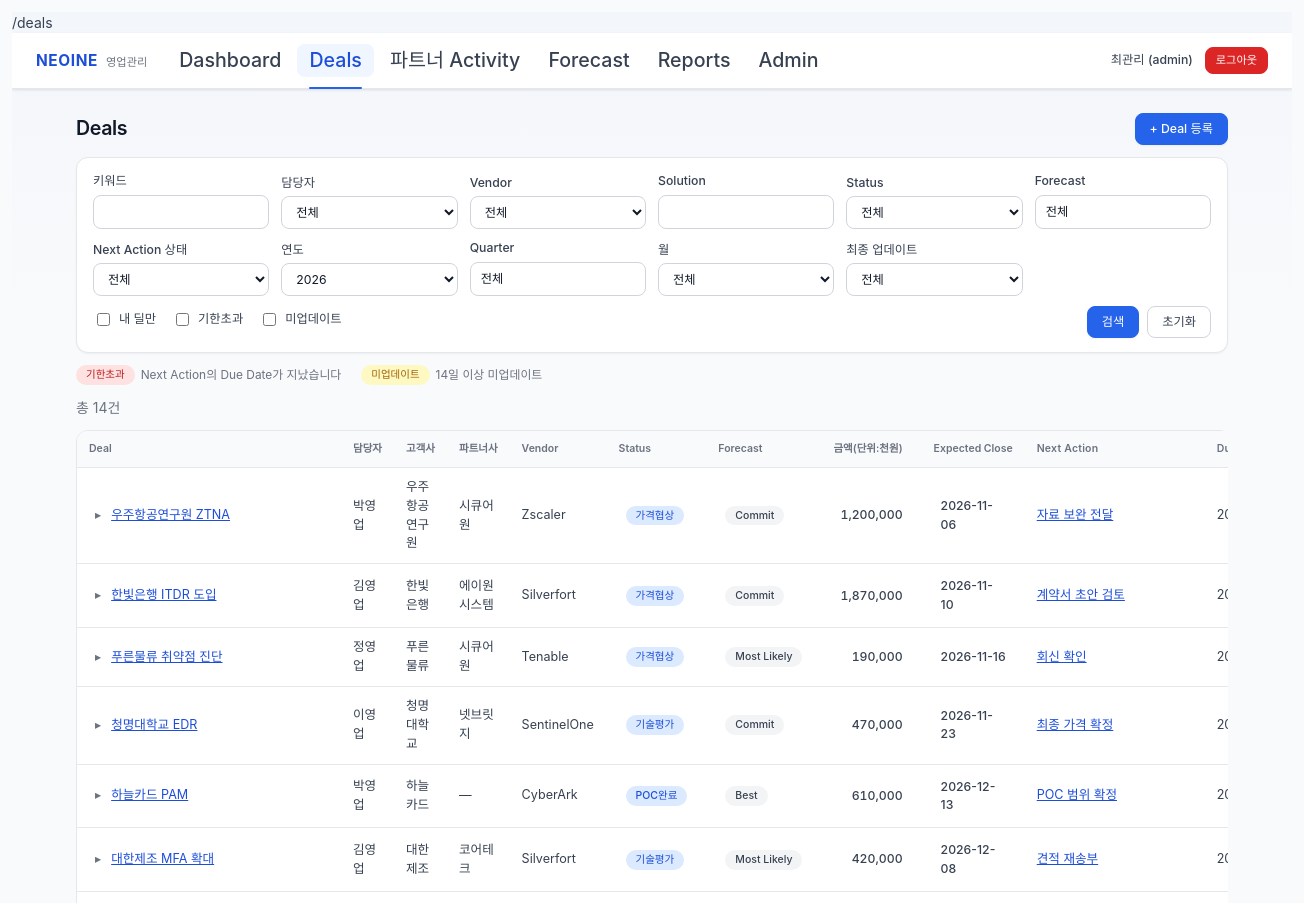
Test case: 메뉴 (T-SHELL-04~05) › sends the menus to their routes
Check: the navigation bar named "주 메뉴" is shown, box [167, 33, 830, 88]
Click the link "Forecast": (589,60) [548, 48, 630, 72]
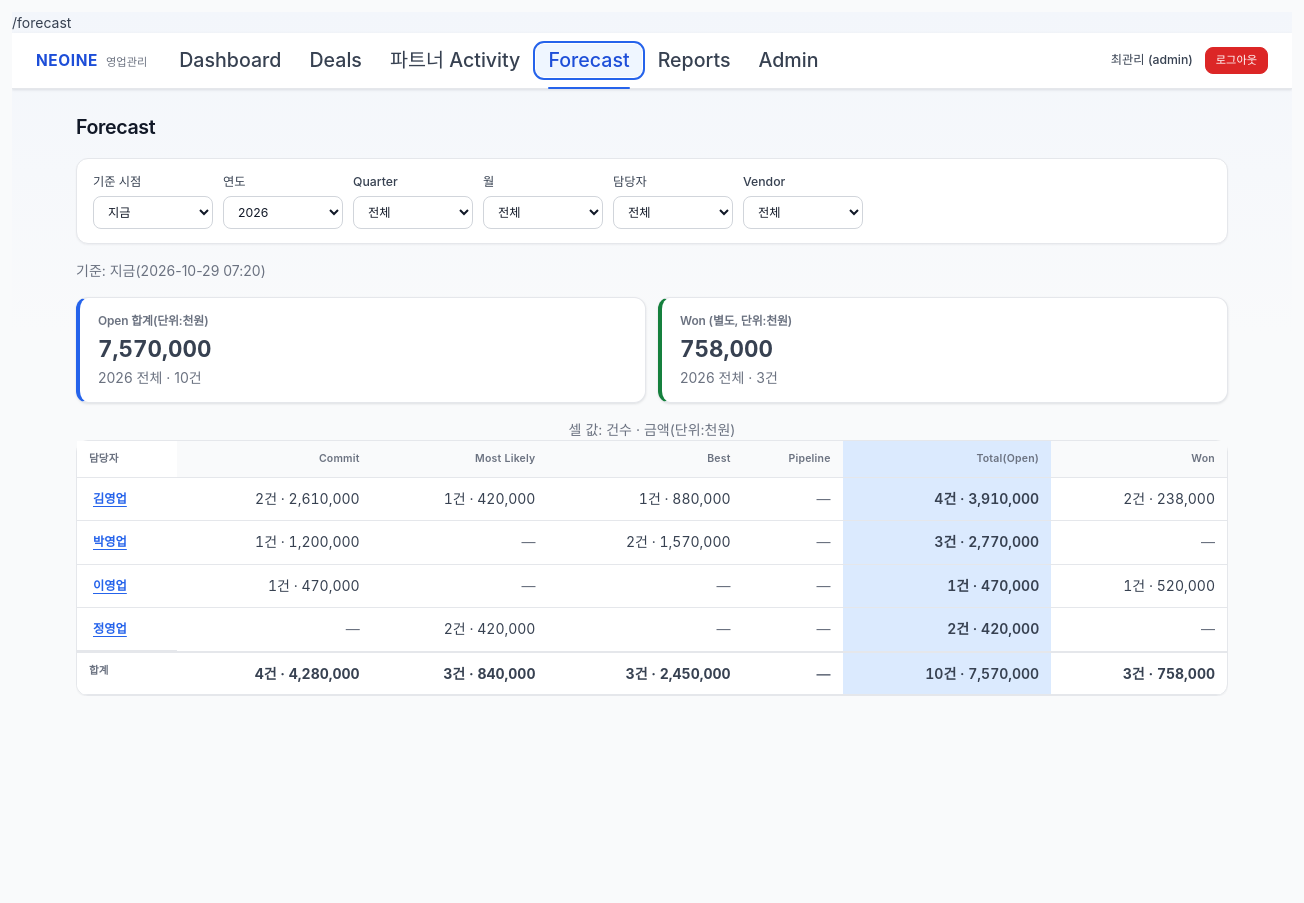
Check: the text with test id "location" reads "/forecast", box [12, 14, 71, 31]
Click the link "Admin": (788,60) [758, 48, 818, 72]
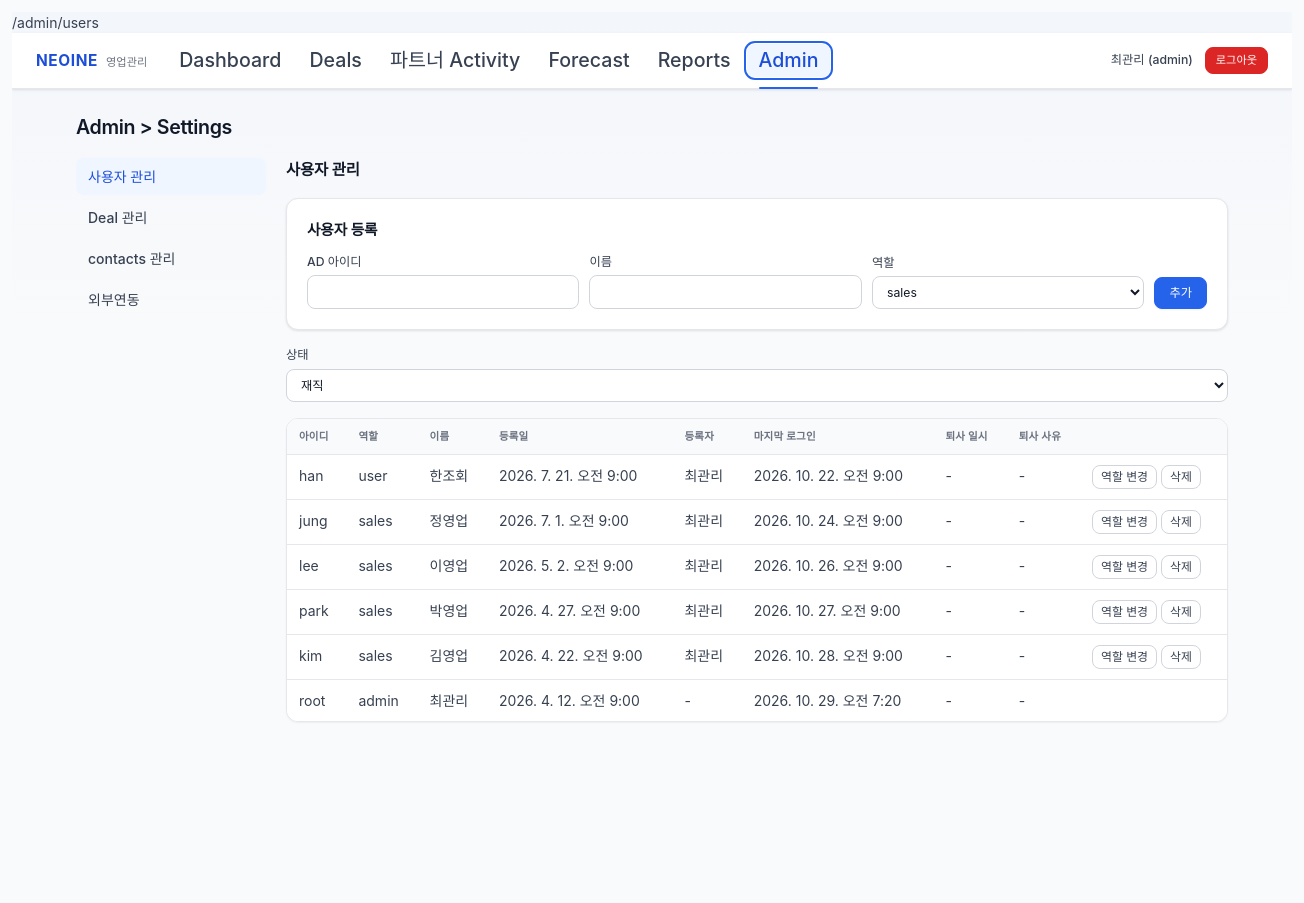
Check: the text with test id "location" reads "/admin/users", box [12, 14, 99, 31]
